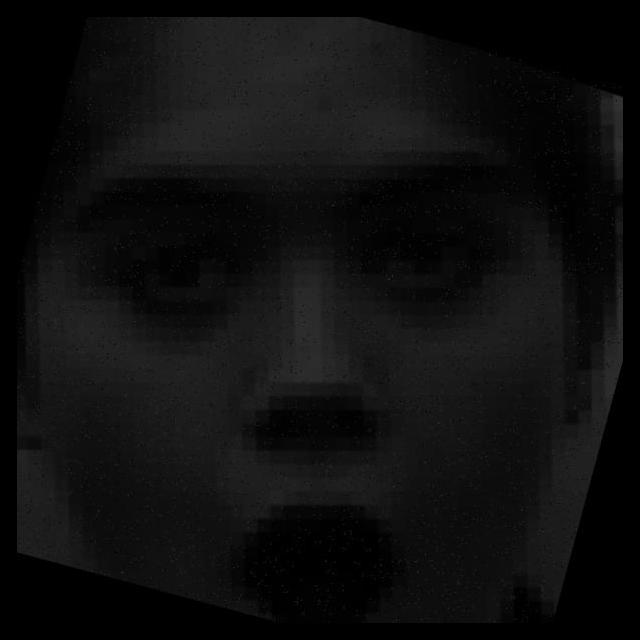Surprised: (87, 89, 562, 617)
